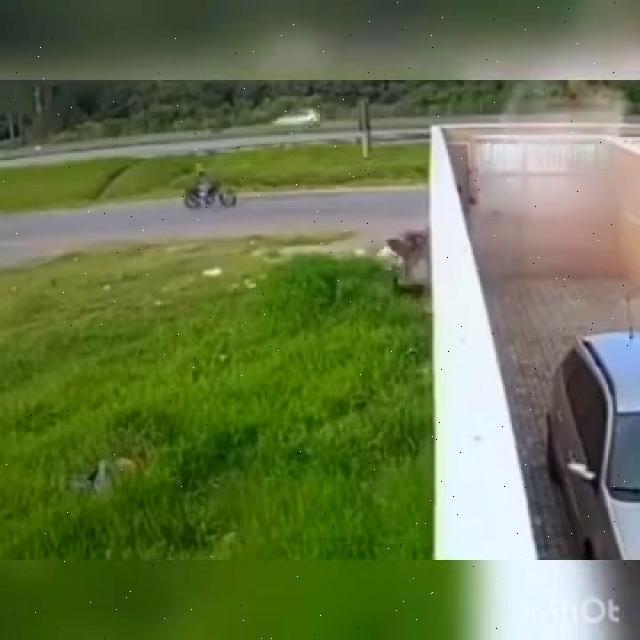accident: (373, 201, 457, 304)
